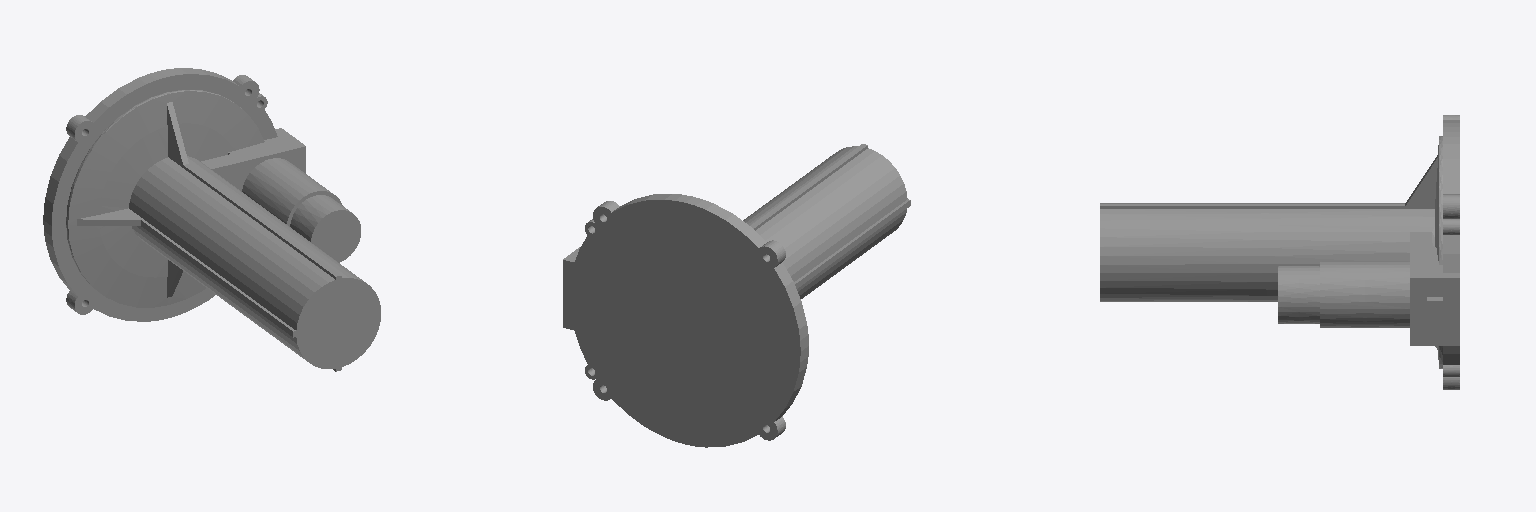
File: pieza1.obj
The picture shows the model from 3 angles: view 1: azimuth 30°, elevation 25°; view 2: azimuth 150°, elevation 25°; view 3: azimuth 270°, elevation 25°; orthographic projection.
Visible parts, largest first — view 1: Body1; view 2: Body1; view 3: Body1.
Part boxes in pixels (bbox=[...]): Body1: bbox=[43, 68, 380, 371]; Body1: bbox=[563, 144, 910, 447]; Body1: bbox=[1100, 115, 1459, 389].
Bounding box in the file's own units: 0.4318 × 0.4064 × 0.5486.